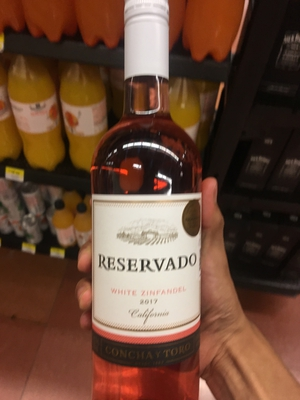reservado white zinfandel: (77, 23, 215, 400)
